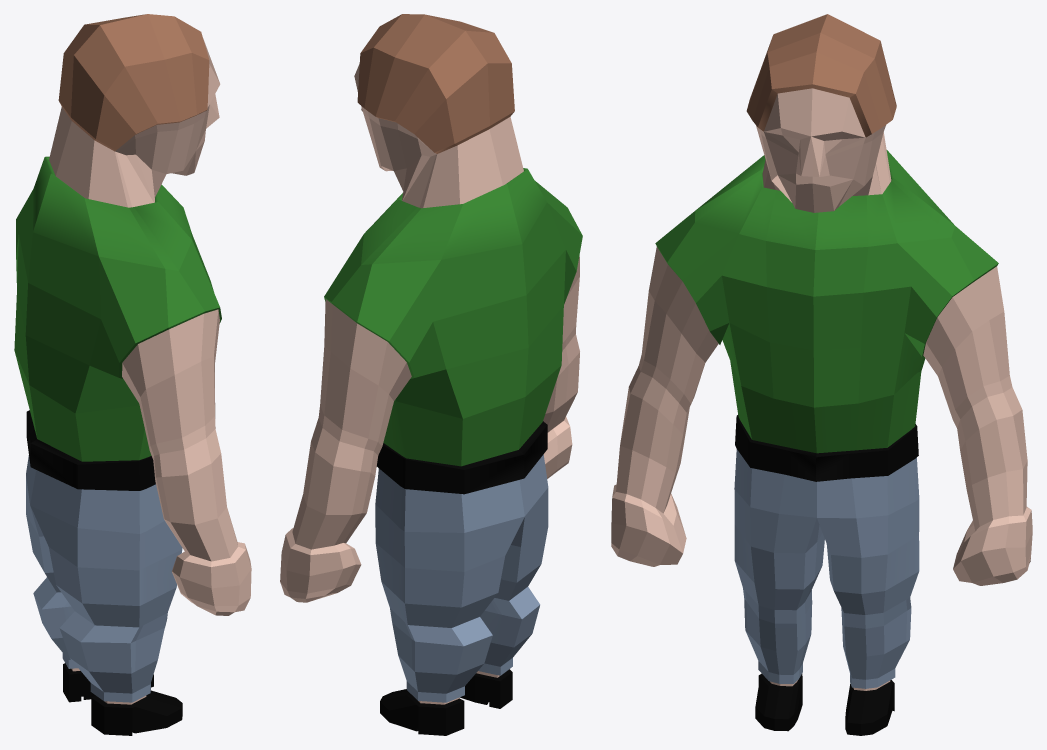
File: Client3.fbx
3 renders of one model, left to right at view 1: azimuth 30°, elevation 25°; view 2: azimuth 150°, elevation 25°; view 3: azimuth 270°, elevation 25°, orthographic.
Visible parts, largest first — view 1: Cylinder.007; view 2: Cylinder.007; view 3: Cylinder.007.
Boxes of the visible parts, x1,y1,x2,y2 form: Cylinder.007: (14,14,251,735); Cylinder.007: (280,14,582,735); Cylinder.007: (611,14,1032,735).
Bounding box in the file's own units: 52.95 × 196 × 108.
